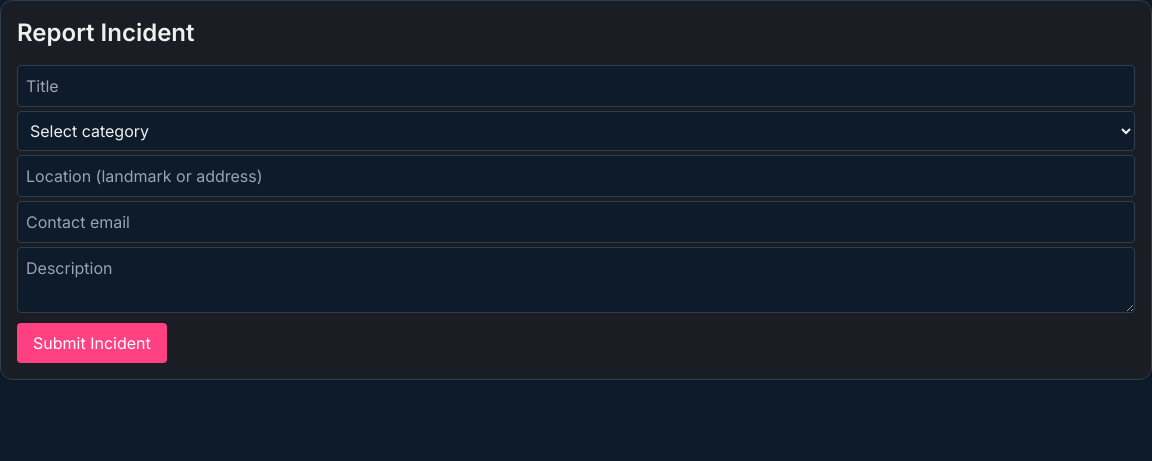
IncidentForm › shows field validation errors from a 422 response
Type "Valid Title" into the field with placeholder "Title".
click(576, 86); type("Valid Title")  # box top-left (17, 65), bottom-right (1135, 107)
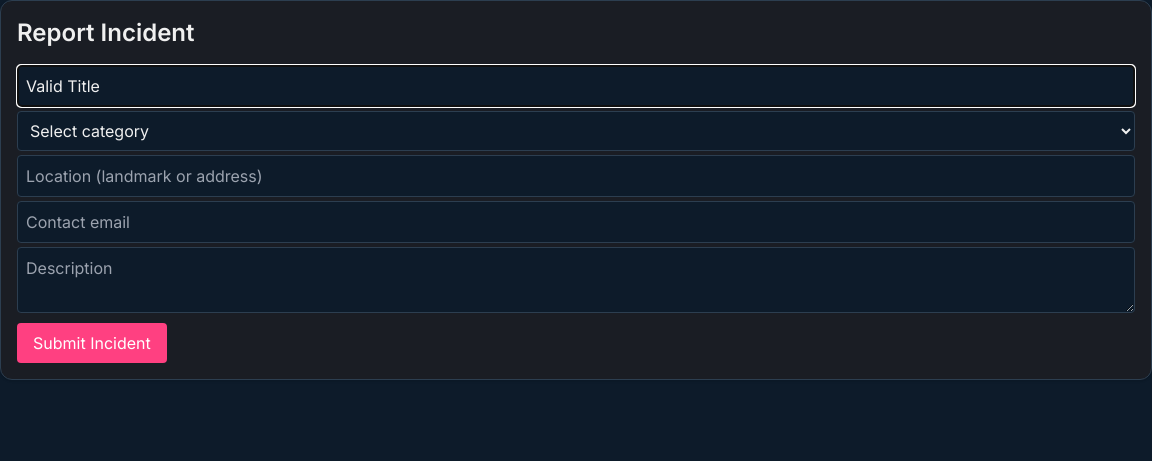
Select "road maintenance" in the dropdown named "category" at {"x": 576, "y": 131}, box top-left (17, 111), bottom-right (1135, 151)
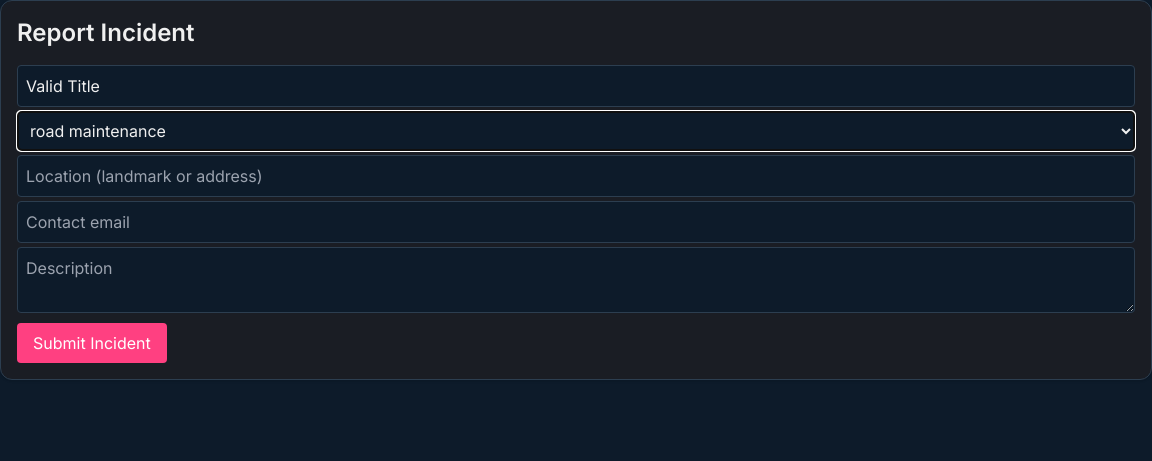
Type "Valid description" into the text box with placeholder "Description".
click(576, 280); type("Valid description")  # box top-left (17, 247), bottom-right (1135, 313)
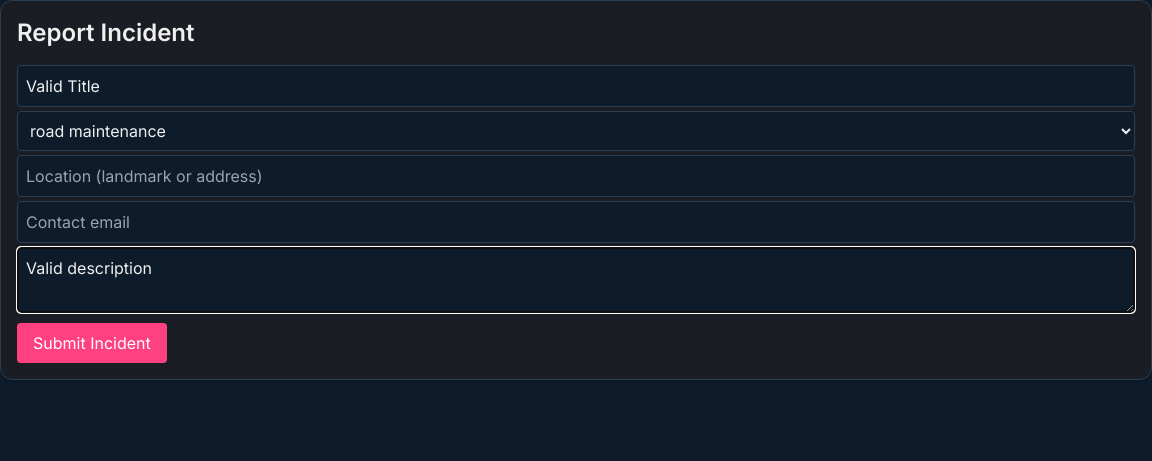
Click the button "Submit Incident".
click(92, 343)  # box top-left (17, 323), bottom-right (167, 363)
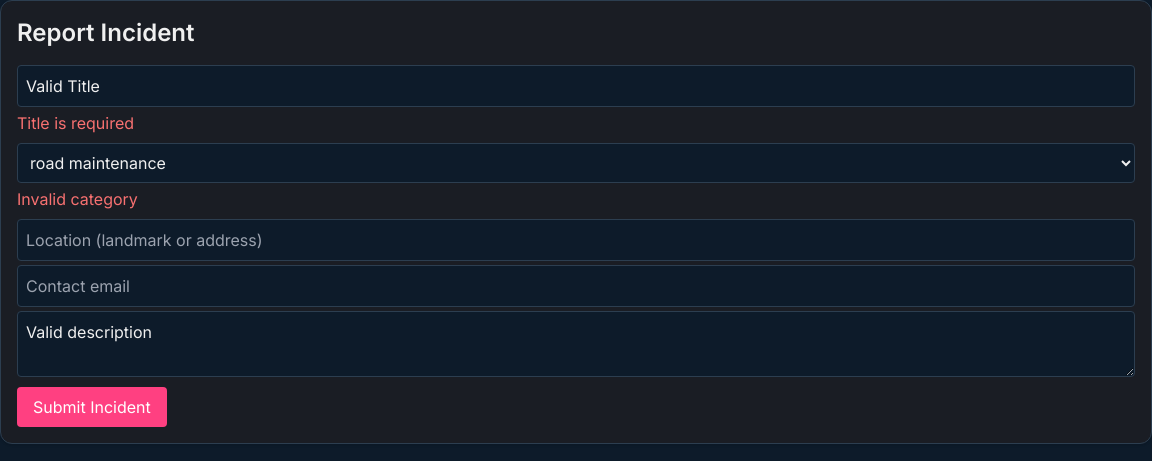
Now the text "Title is required" is shown, box top-left (17, 113), bottom-right (134, 133)
Now the text "Invalid category" is shown, box top-left (17, 189), bottom-right (138, 209)
